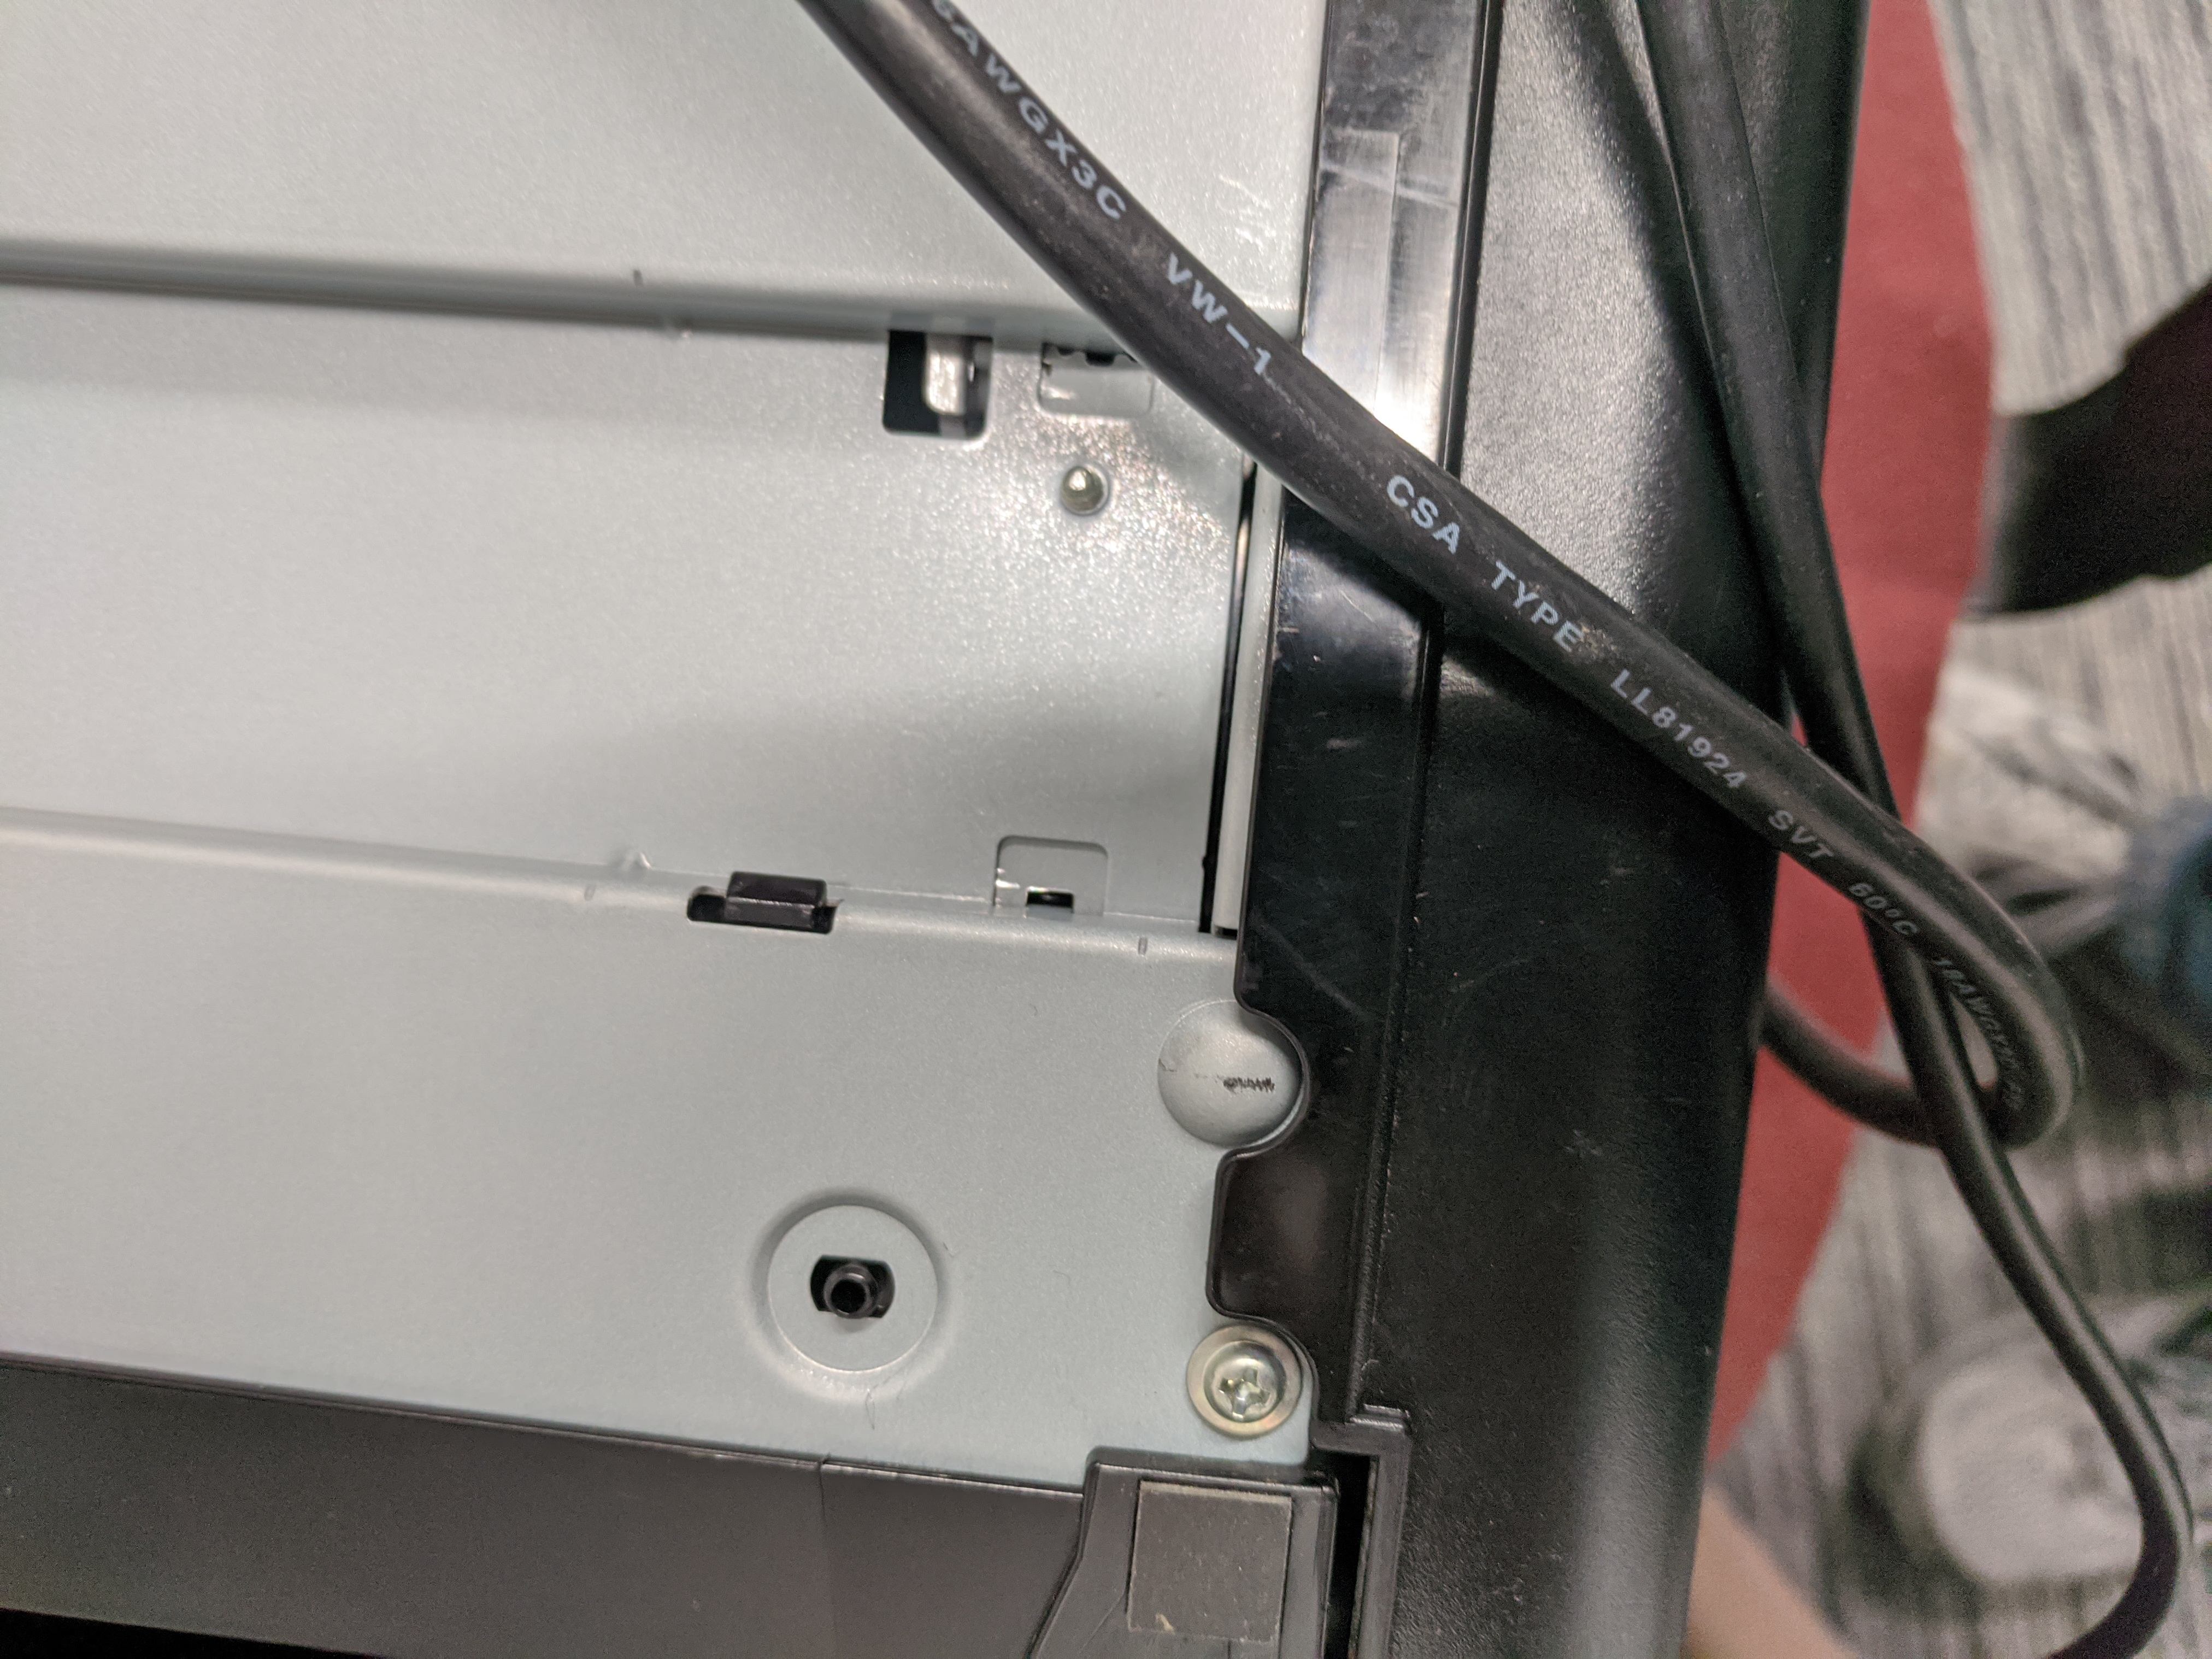cross_recessed_screw: (1198, 1338, 1285, 1432)
